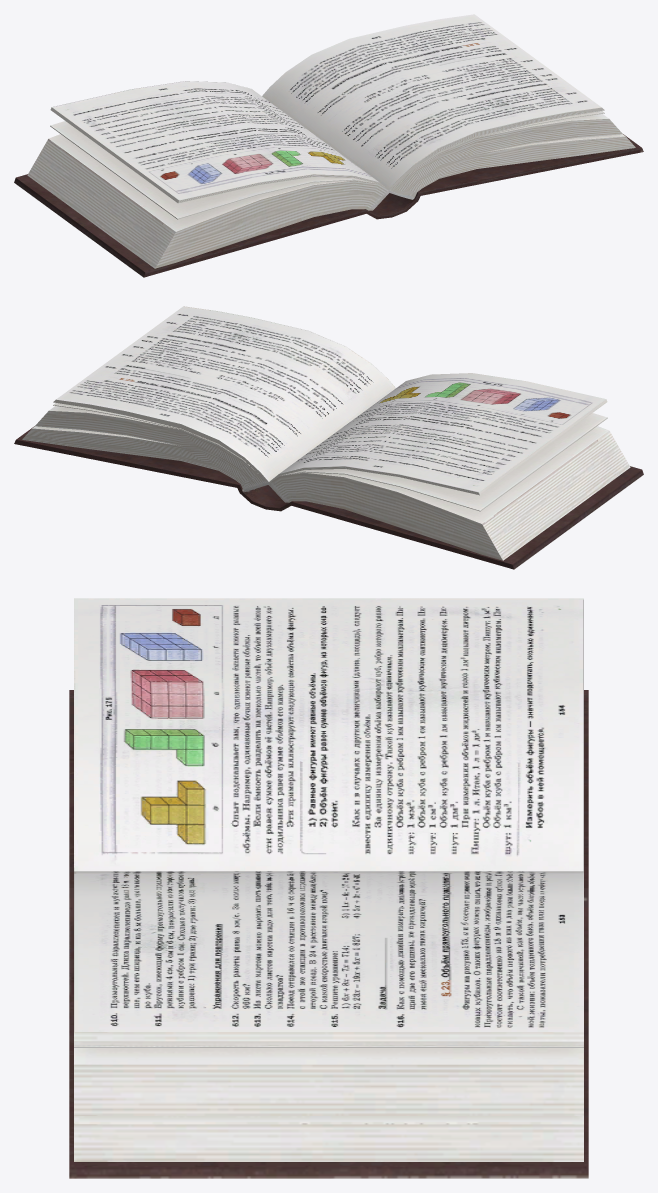
Rendered from textbook_schoolboy_runaway.glb.
The picture shows the model from 3 angles, top to bottom: view 1: azimuth 30°, elevation 25°; view 2: azimuth 150°, elevation 25°; view 3: azimuth 270°, elevation 25°; orthographic projection. The views are drawn at different scales.
Visible parts, largest first — view 1: Textbook; view 2: Textbook; view 3: Textbook.
Part boxes in pixels (x1,y1,x2,y2): Textbook: [14, 14, 643, 277]; Textbook: [14, 306, 643, 569]; Textbook: [69, 598, 588, 1178].
Size of the model in its own units: 0.00564 by 0.000732 by 0.00254.
Materials: 1 (1 with a texture image).
